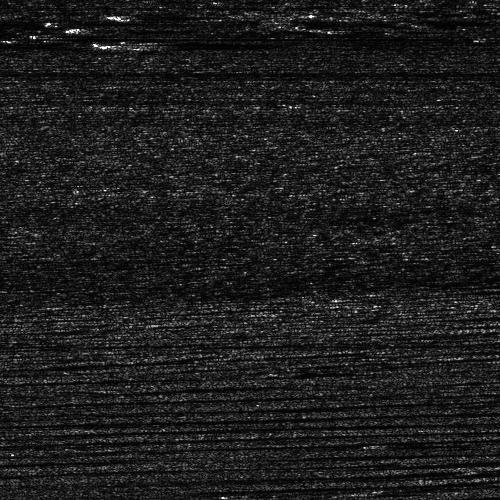object: (96, 38, 189, 47)
shadow: (143, 38, 251, 47)
